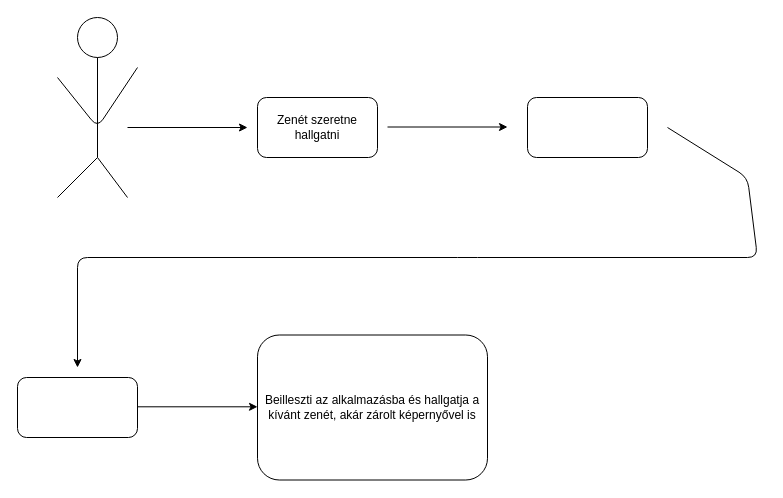
Image size: 783x498. Some labels were removed from this diagram. Each missing label, with the centre of its shape:
"Felkeresi a youtube.com-ot" belongs at point 587,127.
"Kimásolja a zene URL-jét" belongs at point 77,407.
